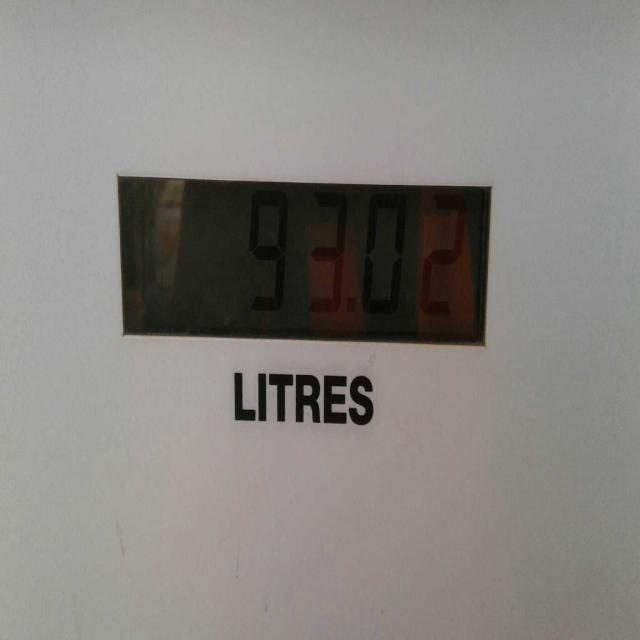.: (348, 297, 359, 321)
0: (364, 188, 402, 316)
2: (424, 190, 458, 326)
3: (306, 186, 344, 321)
9: (250, 196, 285, 307)
